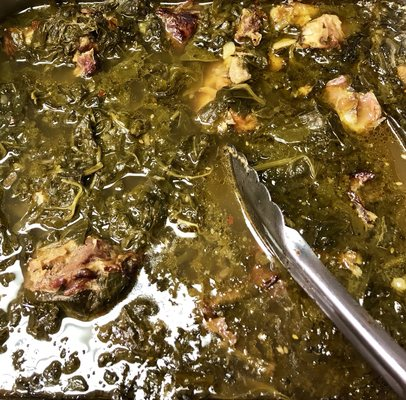sandwich: (1, 0, 404, 382)
